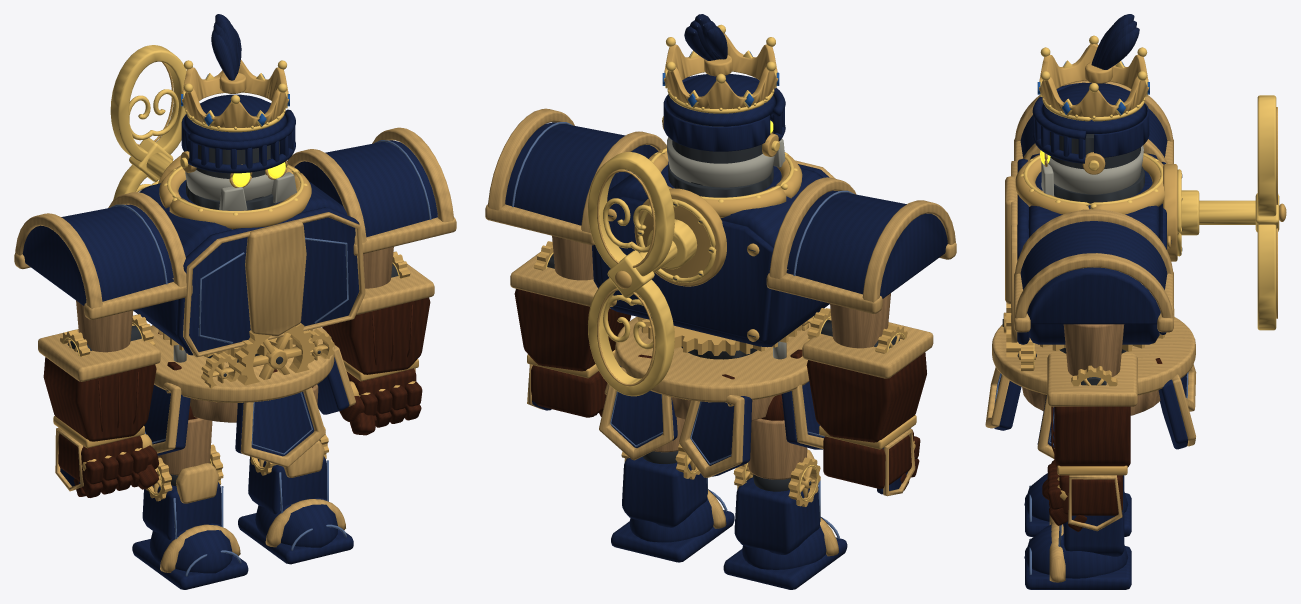
File: boss_king.glb
3 views of the same model, side by side, from view 1: azimuth 30°, elevation 25°; view 2: azimuth 150°, elevation 25°; view 3: azimuth 270°, elevation 25° (orthographic). The views are drawn at different scales.
Visible parts, largest first — view 1: ChestFrontShield, Shoulder_R_CraftedGeometry, Armor_Shoulder_R, Shoulder_L_CraftedGeometry, Armor_Shoulder_L, Leg_R_CraftedGeometry, Head_CraftedGeometry, Leg_L_CraftedGeometry, Torso_CraftedGeometry, Pelvis_CraftedGeometry, BackWindupKey_CraftedGeometry, Armor_Skirt_F (+4 smaller); view 2: Torso_CraftedGeometry, Shoulder_R_CraftedGeometry, Armor_Shoulder_R, BackWindupKey_CraftedGeometry, Leg_R_CraftedGeometry, Armor_Shoulder_L, Shoulder_L_CraftedGeometry, Head_CraftedGeometry, Leg_L_CraftedGeometry, Pelvis_CraftedGeometry, Armor_Skirt_B, CrownBand (+2 smaller); view 3: Armor_Shoulder_L, Shoulder_L_CraftedGeometry, Head_CraftedGeometry, Torso_CraftedGeometry, BackWindupKey_CraftedGeometry, Leg_L_CraftedGeometry, Pelvis_CraftedGeometry, CrownBand, ChestFrontShield, Armor_Shoulder_R, Armor_Skirt_B, Armor_Skirt_F (+3 smaller).
Part boxes in pixels (x1,y1,x2,y2): ChestFrontShield: [175, 207, 365, 357]; Shoulder_R_CraftedGeometry: [38, 300, 160, 497]; Armor_Shoulder_R: [14, 192, 192, 319]; Shoulder_L_CraftedGeometry: [322, 247, 434, 435]; Armor_Shoulder_L: [287, 127, 456, 255]; Leg_R_CraftedGeometry: [132, 406, 248, 589]; Head_CraftedGeometry: [180, 14, 296, 210]; Leg_L_CraftedGeometry: [238, 384, 353, 564]; Torso_CraftedGeometry: [129, 155, 348, 346]; Pelvis_CraftedGeometry: [150, 325, 334, 422]; BackWindupKey_CraftedGeometry: [110, 45, 186, 200]; Armor_Skirt_F: [235, 369, 325, 467]; Torso_CraftedGeometry: [592, 147, 833, 347]; Shoulder_R_CraftedGeometry: [802, 293, 933, 496]; Armor_Shoulder_R: [766, 177, 956, 313]; BackWindupKey_CraftedGeometry: [588, 152, 697, 396]; Leg_R_CraftedGeometry: [723, 394, 847, 589]; Armor_Shoulder_L: [485, 108, 666, 245]; Shoulder_L_CraftedGeometry: [510, 236, 631, 417]; Head_CraftedGeometry: [662, 14, 785, 187]; Leg_L_CraftedGeometry: [611, 417, 734, 562]; Pelvis_CraftedGeometry: [615, 312, 819, 420]; Armor_Skirt_B: [599, 354, 752, 477]; CrownBand: [662, 24, 779, 113]; Armor_Shoulder_L: [1014, 209, 1173, 332]; Shoulder_L_CraftedGeometry: [1042, 324, 1137, 531]; Head_CraftedGeometry: [1032, 14, 1149, 195]; Torso_CraftedGeometry: [1015, 153, 1182, 344]; BackWindupKey_CraftedGeometry: [1177, 95, 1286, 330]; Leg_L_CraftedGeometry: [1024, 483, 1131, 589]; Pelvis_CraftedGeometry: [992, 317, 1195, 415]; CrownBand: [1037, 35, 1149, 121]; ChestFrontShield: [1005, 158, 1029, 344]; Armor_Shoulder_R: [1014, 80, 1173, 163]; Armor_Skirt_B: [1155, 358, 1196, 449]; Armor_Skirt_F: [985, 367, 1021, 430].
Size of the model in its own units: 4.46 by 6.02 by 3.07.
12 materials, 5 textured.
